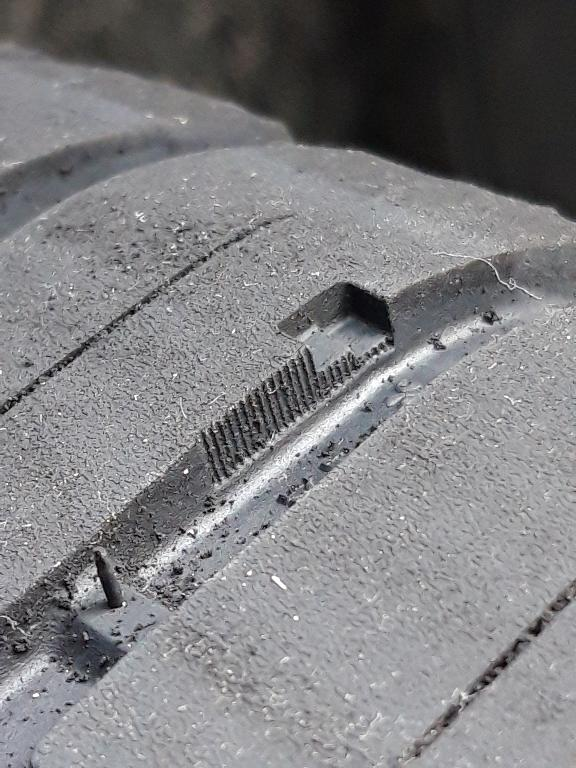temoin:50: (250, 277, 402, 436)
